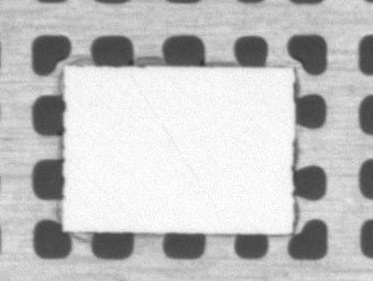DIE_CRACK: (173, 57, 285, 156)
